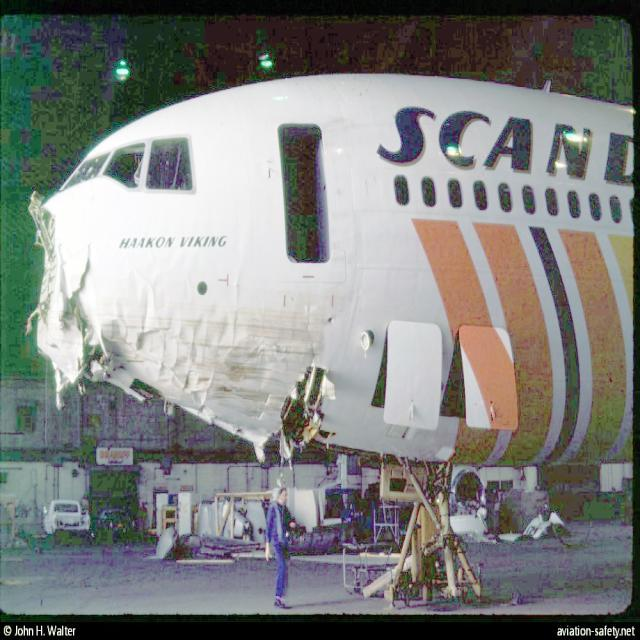crack: (68, 245, 100, 325), (302, 299, 323, 364)
dent: (116, 277, 159, 342)
